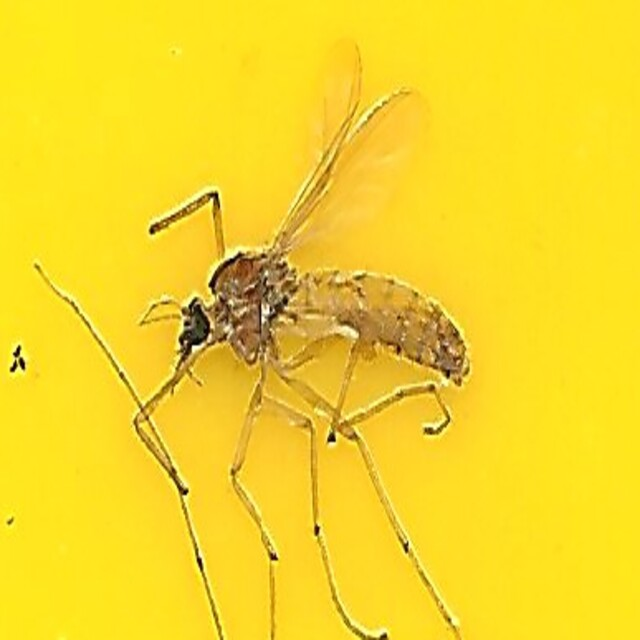Nematocera: (165, 242, 475, 398)
